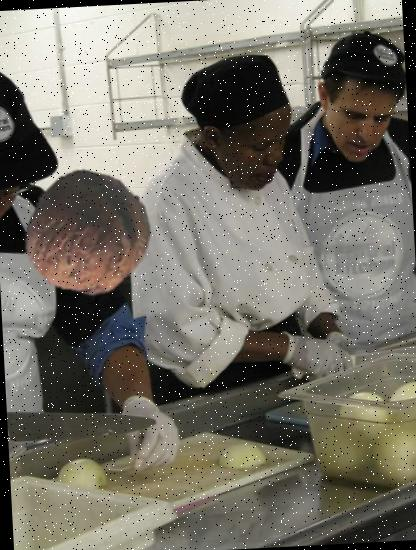Walnut: (21, 166, 154, 300)
